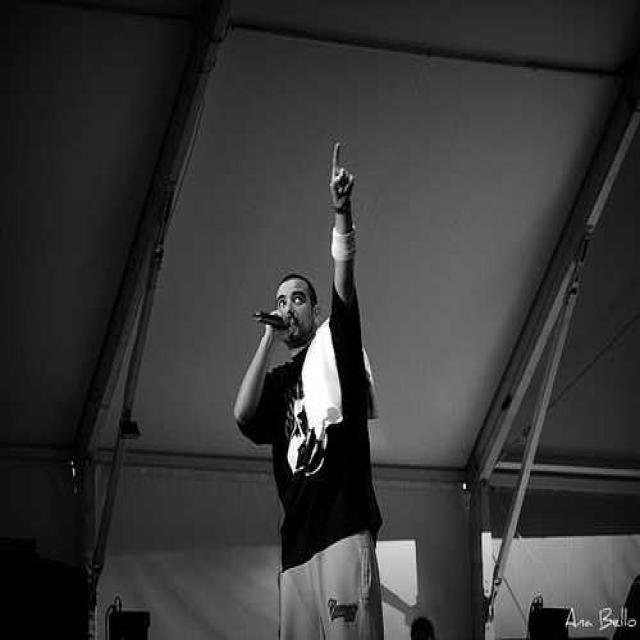microphone: (253, 310, 291, 328)
